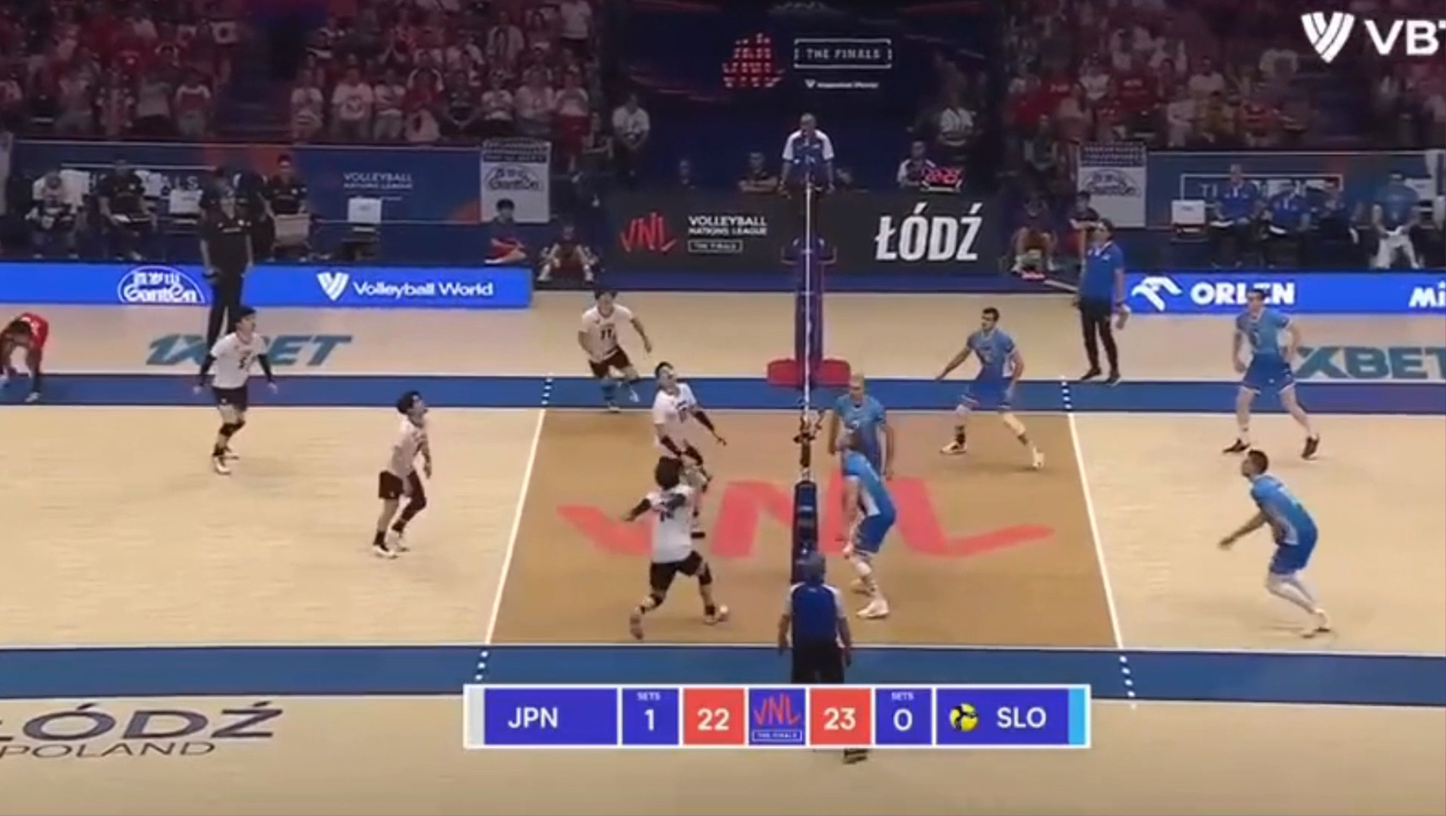player: (1219, 449, 1330, 636), (936, 307, 1043, 468), (1223, 289, 1319, 459), (840, 431, 897, 619), (828, 374, 894, 477)
player 1: (624, 457, 727, 639), (198, 308, 274, 474), (372, 390, 432, 558), (651, 362, 725, 491), (577, 290, 651, 412), (0, 312, 49, 400), (690, 506, 703, 538)
referee: (777, 552, 852, 684), (780, 113, 836, 267), (200, 190, 253, 342), (1076, 219, 1125, 383)
